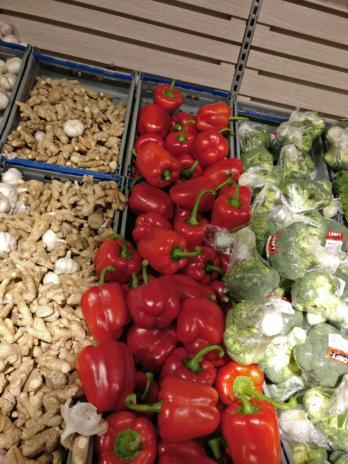Capsicum: (94, 240, 221, 449), (139, 80, 227, 251), (217, 389, 279, 464), (216, 357, 265, 403)
